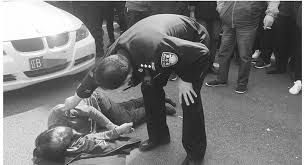falling: (28, 85, 183, 162)
